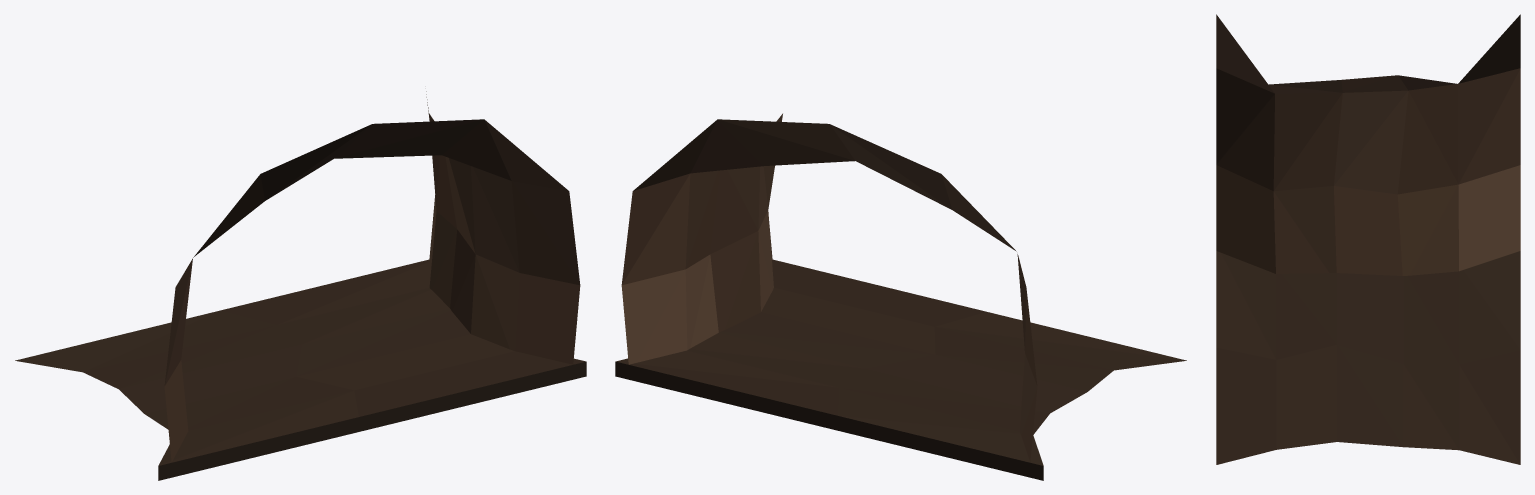
Rendered from tl_cave_tunnel_a_v01.glb.
3 renders of one model, left to right at view 1: azimuth 30°, elevation 25°; view 2: azimuth 150°, elevation 25°; view 3: azimuth 270°, elevation 25°, orthographic. The views are drawn at different scales.
Visible parts, largest first — view 1: tl_cave_tunnel_a_v01, tl_cave_tunnel_a_roof; view 2: tl_cave_tunnel_a_v01, tl_cave_tunnel_a_roof; view 3: tl_cave_tunnel_a_v01, tl_cave_tunnel_a_roof.
Part boxes in pixels (bbox=[...]): tl_cave_tunnel_a_v01: bbox=[15, 91, 586, 480]; tl_cave_tunnel_a_roof: bbox=[193, 119, 568, 257]; tl_cave_tunnel_a_v01: bbox=[615, 113, 1186, 480]; tl_cave_tunnel_a_roof: bbox=[633, 119, 1016, 251]; tl_cave_tunnel_a_v01: bbox=[1216, 68, 1520, 464]; tl_cave_tunnel_a_roof: bbox=[1216, 14, 1520, 93].
Size of the model in its own units: 7.5 by 5.1 by 4.36.
